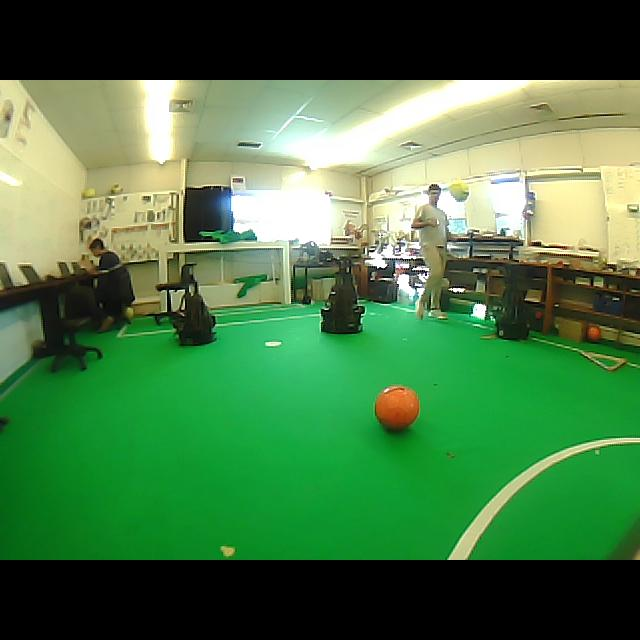ball: (375, 385, 419, 430), (448, 180, 469, 202), (124, 306, 134, 322), (82, 188, 96, 198), (110, 184, 122, 194)
goal: (283, 241, 291, 303), (159, 251, 168, 283)
robot: (173, 264, 215, 345), (321, 259, 364, 333)
